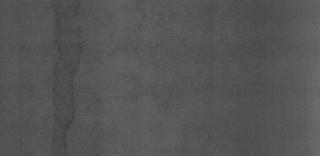water spot: (46, 2, 94, 150)
